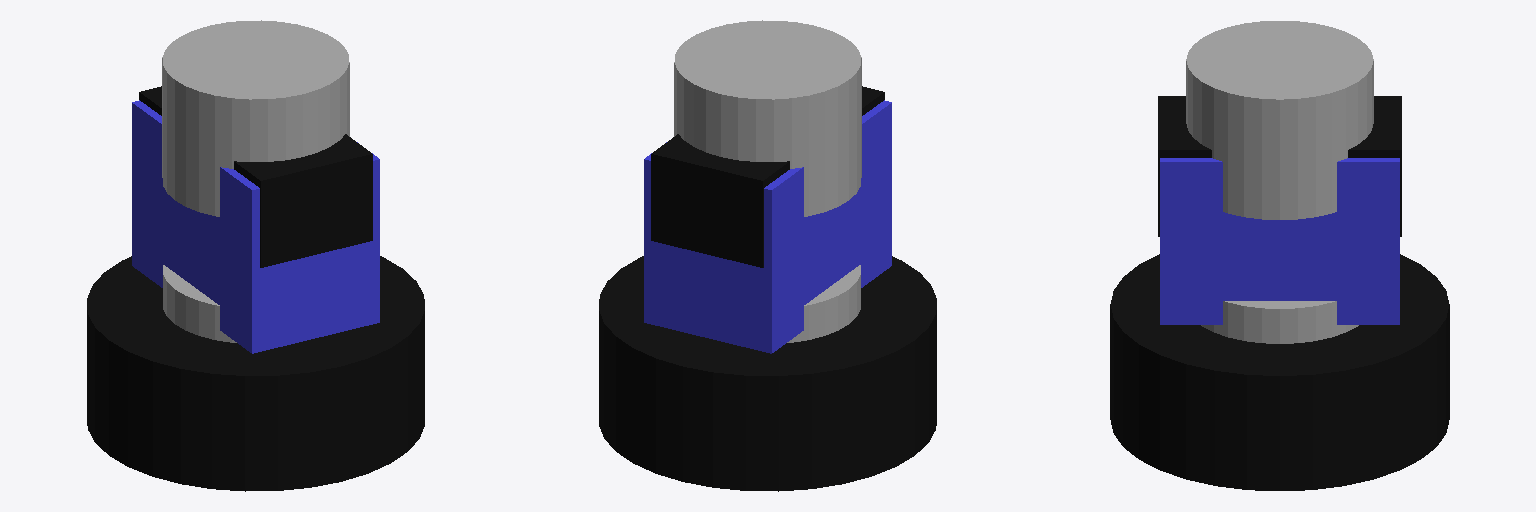
The robot description file, URDF, robot "evolved_robot":
<?xml version="1.0"?>
<robot name="evolved_robot">
  <material name="metal">
    <color rgba="0.7 0.7 0.7 1.0"/>
  </material>
  <material name="plastic">
    <color rgba="0.3 0.3 0.9 1.0"/>
  </material>
  <material name="rubber">
    <color rgba="0.1 0.1 0.1 1.0"/>
  </material>
  <material name="red">
    <color rgba="1.0 0.0 0.0 1.0"/>
  </material>
  <material name="wheel_material">
    <color rgba="0.2 0.2 0.2 1.0"/>
  </material>
  <link name="base_link">
    <visual>
      <geometry><cylinder radius="0.16691049582872597" length="0.12522916229259243"/></geometry>
      <material name="rubber"/>
    </visual>
    <collision>
      <geometry><cylinder radius="0.16691049582872597" length="0.12522916229259243"/></geometry>
    </collision>
    <inertial>
      <mass value="5.0"/>
      <inertia ixx="0.08271640328489825" ixy="0" ixz="0" 
               iyy="0.08271640328489825" iyz="0" 
               izz="0.13929556808895574"/>
    </inertial>
  </link>
  <link name="link1">
    <visual>
      <geometry><cylinder radius="0.09211245339088595" length="0.07593534628456418"/></geometry>
      <material name="metal"/>
    </visual>
    <collision>
      <geometry><cylinder radius="0.09211245339088595" length="0.07593534628456418"/></geometry>
    </collision>
    <inertial>
      <mass value="0.5"/>
      <inertia ixx="0.0026016907520350903" ixy="0" ixz="0" 
               iyy="0.0026016907520350903" iyz="0" 
               izz="0.004242352034844068"/>
    </inertial>
  </link>
  <joint name="joint1" type="prismatic">
    <parent link="base_link"/>
    <child link="link1"/>
    <origin xyz="0 0 0.06261458114629621" rpy="0 0 0"/>
    <axis xyz="0.01936073509213312 0.775982958042439 0.6304566684272589"/>
    <dynamics damping="0.1259254720192044" friction="0.1"/>
    <limit lower="-2.349081321379396" upper="2.7161765588283378" effort="100" velocity="100"/>
  </joint>
  <link name="link2">
    <visual>
      <geometry><box size="0.09107775807378744 0.11316454820688669 0.24986356730430942"/></geometry>
      <material name="plastic"/>
    </visual>
    <collision>
      <geometry><box size="0.09107775807378744 0.11316454820688669 0.24986356730430942"/></geometry>
    </collision>
    <inertial>
      <mass value="0.5"/>
      <inertia ixx="0.006269834769741995" ixy="0" ixz="0" 
               iyy="0.00589391335681521" iyz="0" 
               izz="0.001758447748884678"/>
    </inertial>
  </link>
  <joint name="joint2" type="floating">
    <parent link="base_link"/>
    <child link="link2"/>
    <origin xyz="0 0 0.11261458114629622" rpy="0 0 0"/>
    <axis xyz="0.27859987236654477 0.7781125276613622 0.5629591507505589"/>
    <dynamics damping="0.8738560499960275" friction="0.1"/>
  </joint>
  <link name="link3">
    <visual>
      <geometry><box size="0.14555210657132778 0.23692683161391276 0.177448172397545"/></geometry>
      <material name="plastic"/>
    </visual>
    <collision>
      <geometry><box size="0.14555210657132778 0.23692683161391276 0.177448172397545"/></geometry>
    </collision>
    <inertial>
      <mass value="0.5"/>
      <inertia ixx="0.0073018481188196855" ixy="0" ixz="0" 
               iyy="0.0043894391345483345" iyz="0" 
               izz="0.006443311605496545"/>
    </inertial>
  </link>
  <joint name="joint3" type="fixed">
    <parent link="base_link"/>
    <child link="link3"/>
    <origin xyz="0 0 0.16261458114629623" rpy="0 0 0"/>
    <axis xyz="0.42495071324914696 0.8879421209577194 0.17599909414013534"/>
    <dynamics damping="0.21045667114747402" friction="0.1"/>
  </joint>
  <link name="link4">
    <visual>
      <geometry>
        <cylinder radius="0.09365626173624765" length="0.046474526636084534"/>
      </geometry>
      <material name="wheel_material"/>
    </visual>
    <collision>
      <geometry>
        <cylinder radius="0.09365626173624765" length="0.046474526636084534"/>
      </geometry>
    </collision>
    <inertial>
      <mass value="1.0"/>
      <inertia ixx="0.0023728639761061423" ixy="0" ixz="0" 
               iyy="0.0023728639761061423" iyz="0" 
               izz="0.004385747681204263"/>
    </inertial>
  </link>
  <joint name="joint4" type="continuous">
    <parent link="base_link"/>
    <child link="link4"/>
    <origin xyz="0 0 0" rpy="1.5708 0 0"/>
    <axis xyz="0 1 0"/>
    <dynamics damping="0.5080480360255609" friction="0.1"/>
  </joint>
  <link name="link5">
    <visual>
      <geometry><box size="0.12709257113936256 0.23956601722592846 0.09456781277942478"/></geometry>
      <material name="rubber"/>
    </visual>
    <collision>
      <geometry><box size="0.12709257113936256 0.23956601722592846 0.09456781277942478"/></geometry>
    </collision>
    <inertial>
      <mass value="0.5"/>
      <inertia ixx="0.005527912318614849" ixy="0" ixz="0" 
               iyy="0.002091299404391523" iyz="0" 
               izz="0.006128699854025649"/>
    </inertial>
  </link>
  <joint name="joint5" type="prismatic">
    <parent link="base_link"/>
    <child link="link5"/>
    <origin xyz="0 0 0.21261458114629622" rpy="0 0 0"/>
    <axis xyz="0.48854453231786377 -0.6426020827629668 0.5902430034917965"/>
    <dynamics damping="0.7911030398693526" friction="0.1"/>
    <limit lower="-0.06631870370802115" upper="1.362571305234858" effort="100" velocity="100"/>
  </joint>
  <link name="link6">
    <visual>
      <geometry><cylinder radius="0.09219783476561011" length="0.1309749899245123"/></geometry>
      <material name="metal"/>
    </visual>
    <collision>
      <geometry><cylinder radius="0.09219783476561011" length="0.1309749899245123"/></geometry>
    </collision>
    <inertial>
      <mass value="0.5"/>
      <inertia ixx="0.003554647516010527" ixy="0" ixz="0" 
               iyy="0.003554647516010527" iyz="0" 
               izz="0.004250220367733372"/>
    </inertial>
  </link>
  <joint name="joint6" type="revolute">
    <parent link="base_link"/>
    <child link="link6"/>
    <origin xyz="0 0 0.2626145811462962" rpy="0 0 0"/>
    <axis xyz="0.26606172033996245 0.9474655175819661 0.17753944340026676"/>
    <dynamics damping="0.22654745826912925" friction="0.1"/>
    <limit lower="-0.41761036287403003" upper="1.7748438257456958" effort="100" velocity="100"/>
  </joint>
</robot>

--- What the picture shows (computed from the rendered views, not written in the file) ---
The picture shows the robot from 3 angles, left to right: view 1: azimuth 30°, elevation 25°; view 2: azimuth 150°, elevation 25°; view 3: azimuth 270°, elevation 25°; orthographic projection.
Robot: evolved_robot — 7 links, 6 joints (1 revolute, 1 continuous, 2 prismatic, 1 fixed, 1 floating); root link base_link; default pose: every joint at zero.
Visible links, largest first — view 1: base_link, link3, link6, link5, link1; view 2: base_link, link3, link6, link5, link1; view 3: base_link, link3, link6, link1, link5.
Boxes of the visible links, <box> form: base_link: <box>87,256,424,491</box>; link3: <box>132,100,379,353</box>; link6: <box>162,20,349,216</box>; link5: <box>139,86,372,267</box>; link1: <box>163,265,236,342</box>; base_link: <box>599,256,936,491</box>; link3: <box>644,100,891,353</box>; link6: <box>674,20,861,216</box>; link5: <box>651,86,884,267</box>; link1: <box>787,265,860,342</box>; base_link: <box>1110,254,1449,490</box>; link3: <box>1160,158,1399,324</box>; link6: <box>1186,21,1373,219</box>; link1: <box>1201,301,1358,343</box>; link5: <box>1158,96,1401,236</box>.
Bounding box of the posed robot: 0.3338 × 0.3338 × 0.4218 m (x, y, z).
Geometry: primitives only (box / cylinder / sphere), no mesh files.